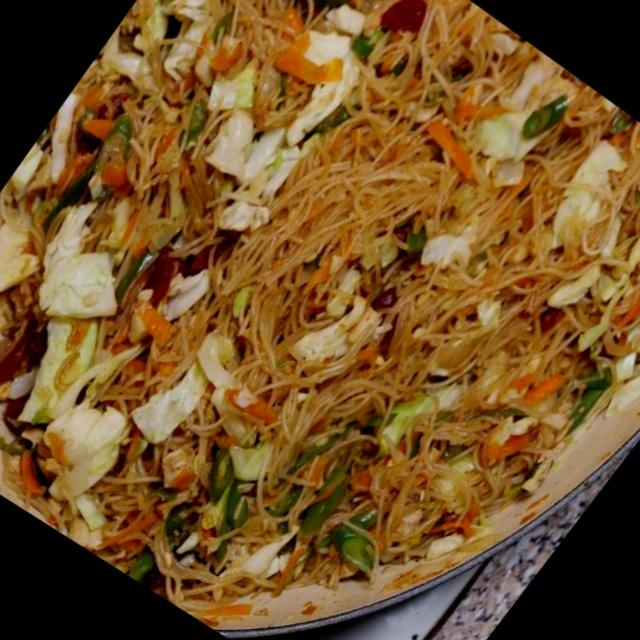pancit bihon: (0, 0, 639, 610)
